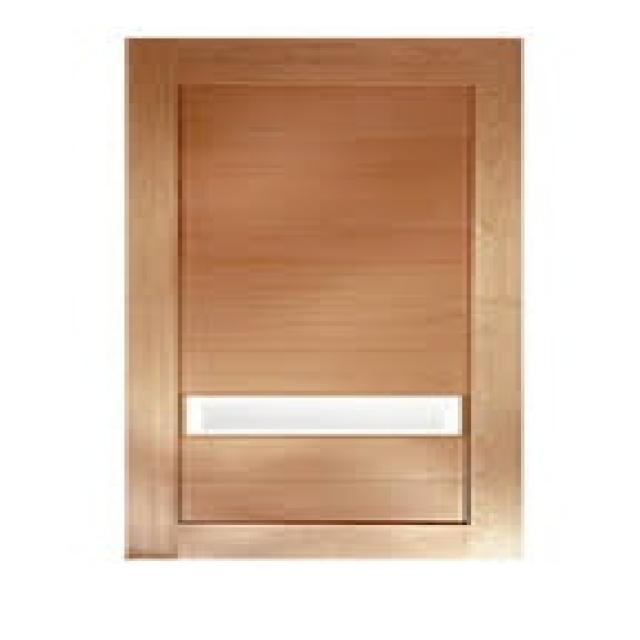door: (122, 37, 527, 562)
